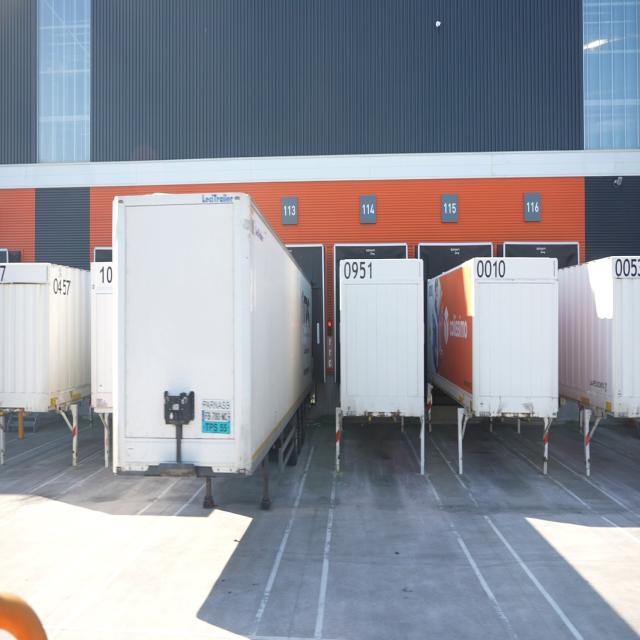Code: (342, 256, 374, 284), (474, 256, 508, 281), (51, 273, 73, 301)
